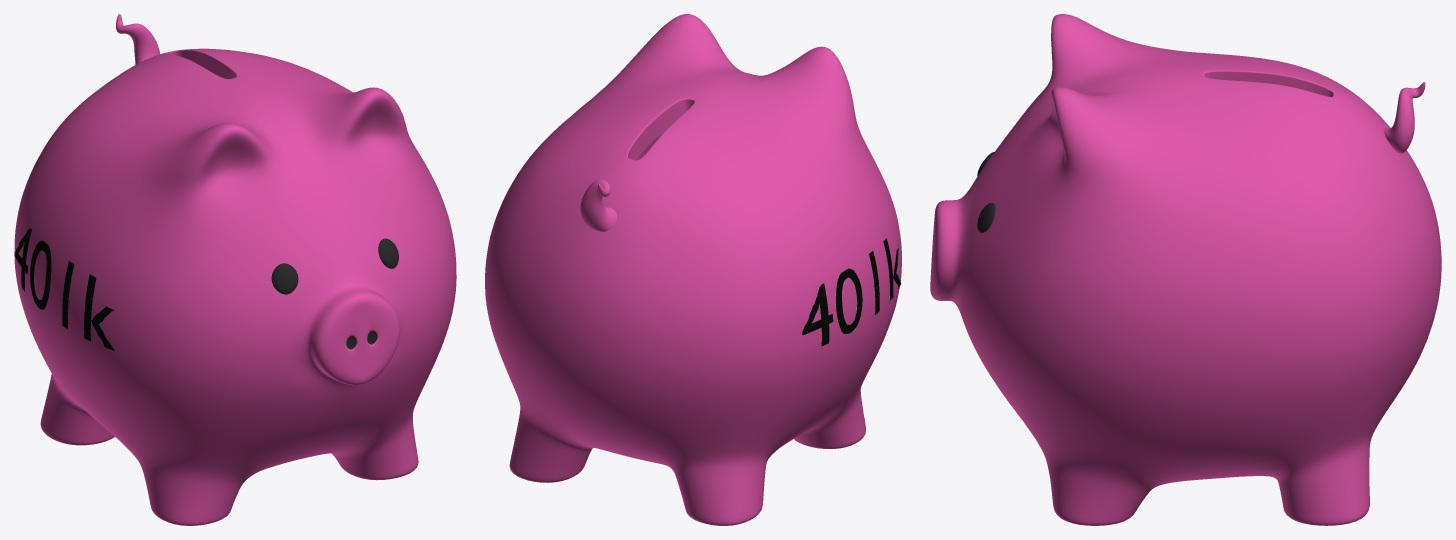
The model's file is PigModel.glb.
The picture shows the model from 3 angles, left to right: view 1: azimuth 30°, elevation 25°; view 2: azimuth 150°, elevation 25°; view 3: azimuth 270°, elevation 25°; orthographic projection. The views are drawn at different scales.
Parts seen in each view (by area): view 1: Cube, Text; view 2: Cube, Text; view 3: Cube.
Boxes of the visible parts, bbox=[...] form: Cube: bbox=[14, 14, 456, 525]; Text: bbox=[15, 228, 114, 350]; Cube: bbox=[485, 14, 901, 525]; Text: bbox=[802, 238, 901, 345]; Cube: bbox=[930, 14, 1441, 525].
Size of the model in its own units: 2.75 by 2.84 by 3.2.
